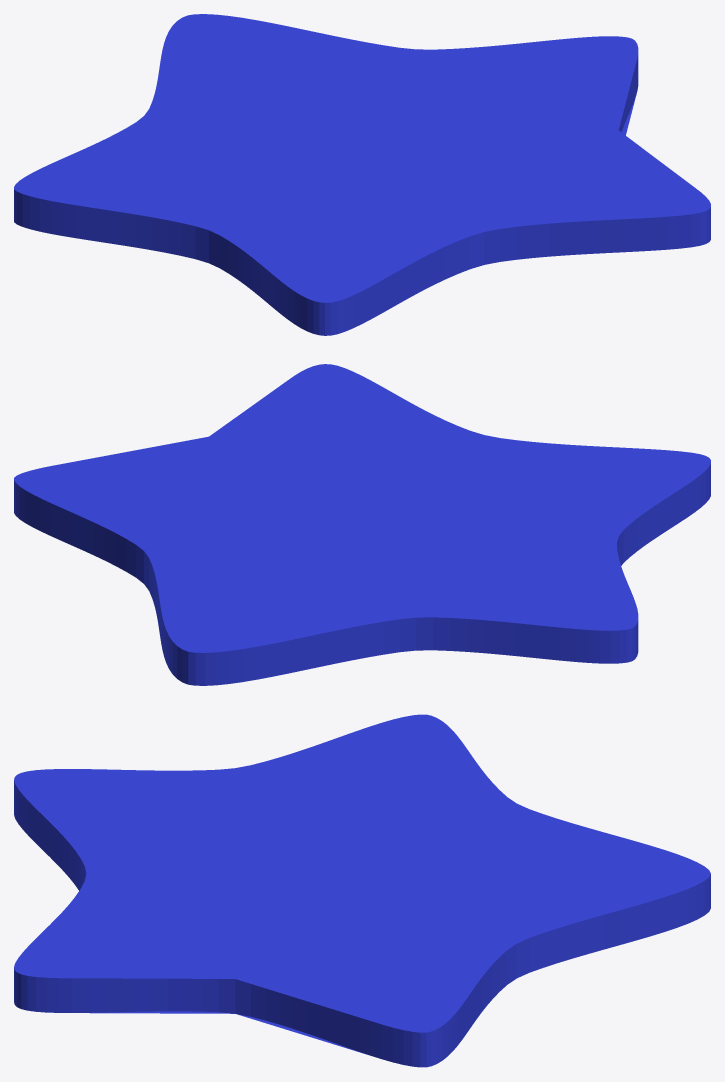
Rendered from Star Cut Out.fbx.
The picture shows the model from 3 angles, top to bottom: view 1: azimuth 30°, elevation 25°; view 2: azimuth 150°, elevation 25°; view 3: azimuth 270°, elevation 25°; orthographic projection. The views are drawn at different scales.
Parts seen in each view (by area): view 1: Star Cutout; view 2: Star Cutout; view 3: Star Cutout.
Boxes of the visible parts, x1,y1,x2,y2 form: Star Cutout: (14, 14, 710, 335); Star Cutout: (14, 364, 710, 685); Star Cutout: (14, 714, 710, 1067).
Bounding box in the file's own units: 9.25 × 0.4721 × 8.56.
